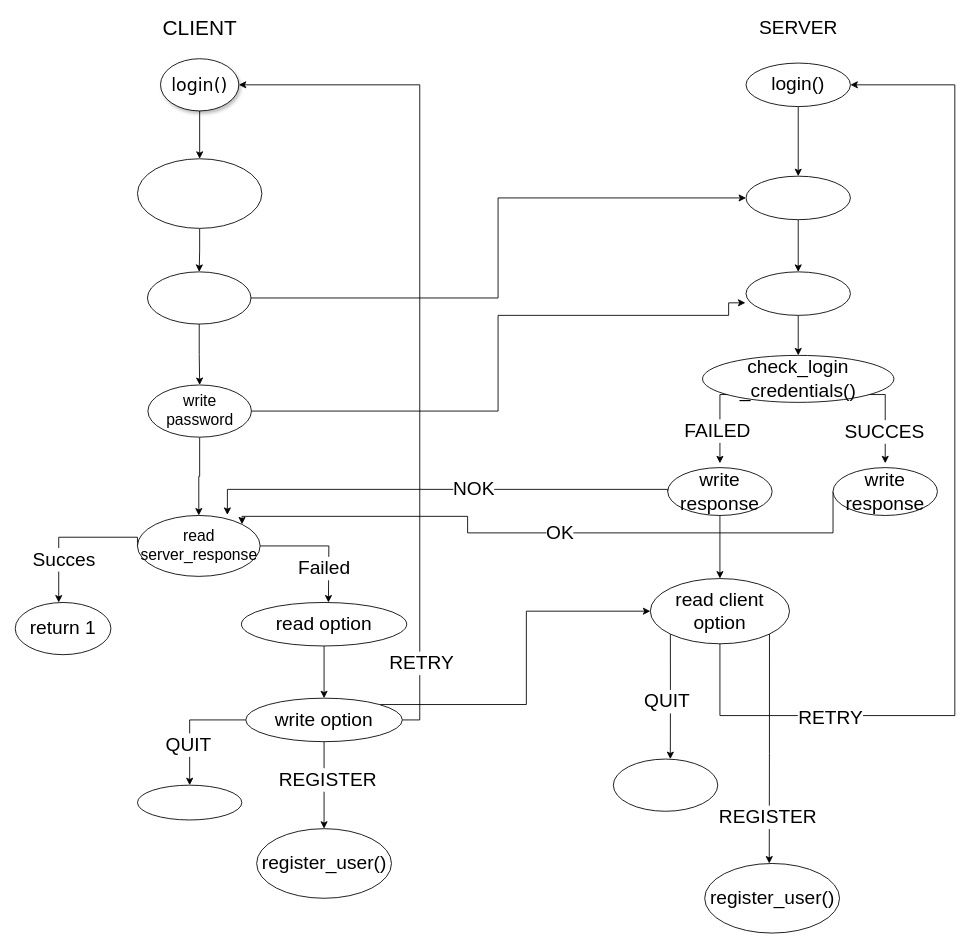
This 977x948 diagram has some shape labels left out. The centre of each missing label's shape, as x and y in pixels:
close thread: the point at 665,784
read from stdin user and password: the point at 199,193
read pass: the point at 797,293
read user: the point at 797,197
return 0: the point at 189,802
write user: the point at 199,297
